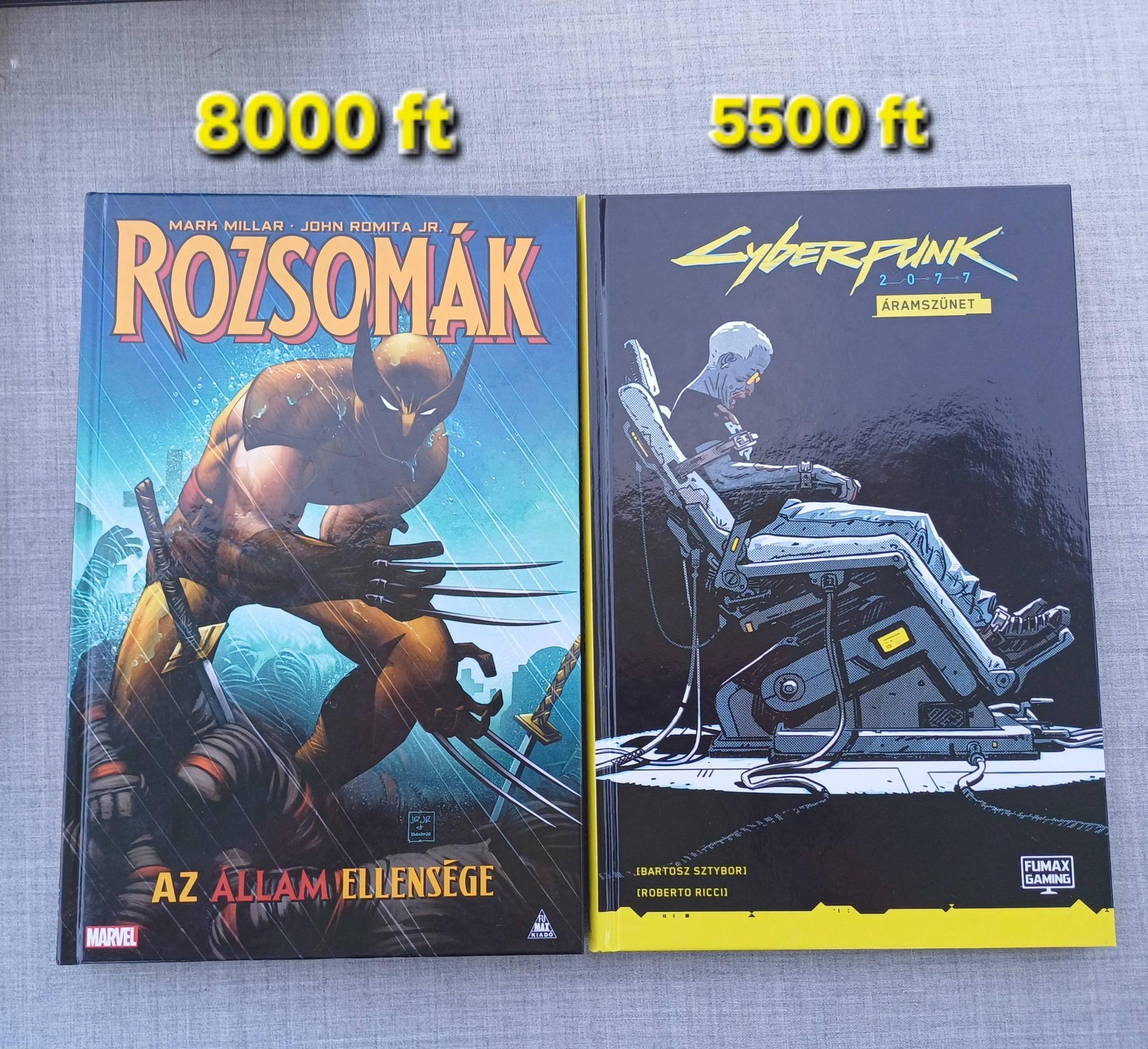comic: (578, 187, 1113, 953), (54, 192, 582, 962)
